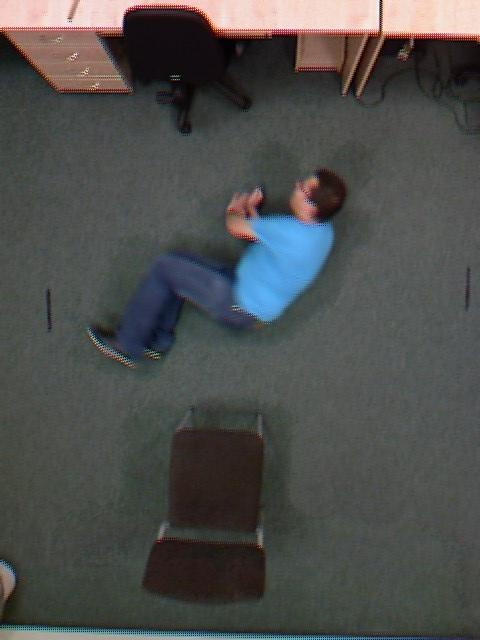fall: (141, 89, 289, 451)
